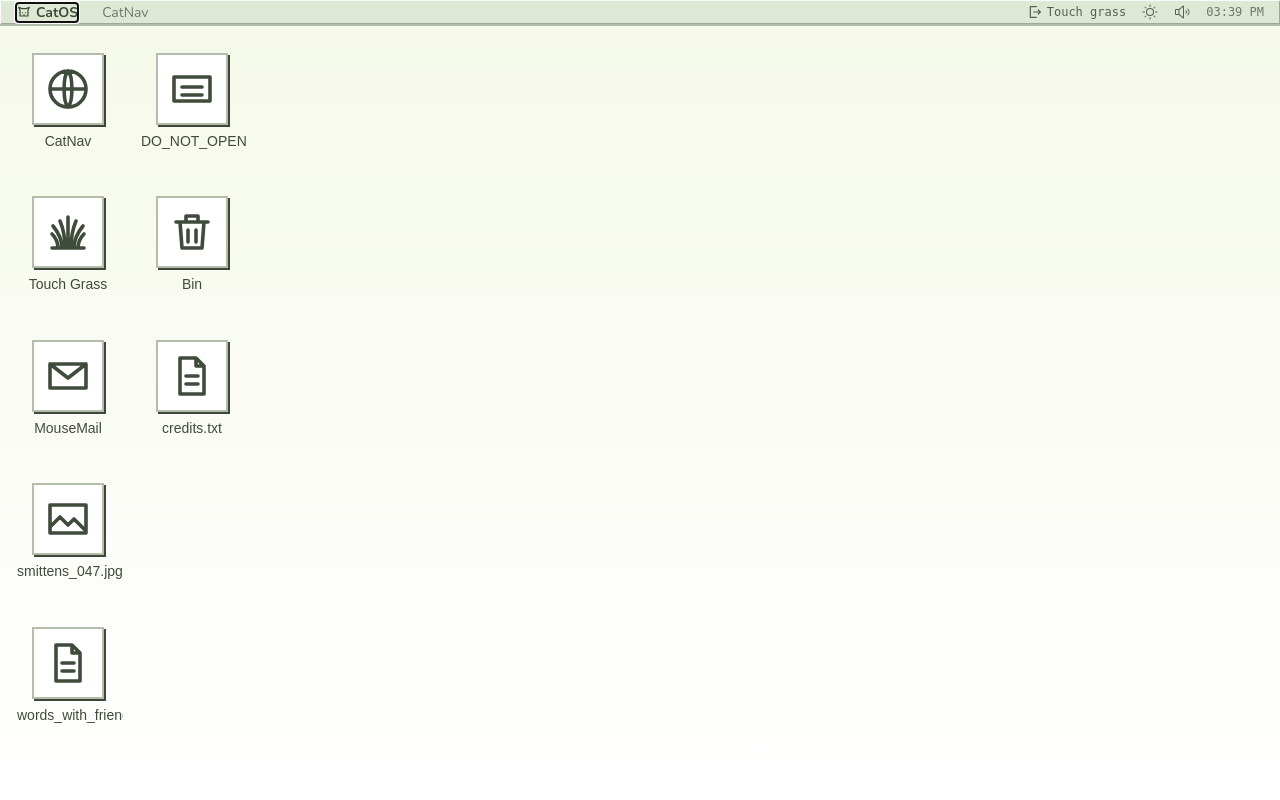
LaptopScreenOverlay (CatOS) › the tray volume › keeps the fader shut until the speaker is used
The image size is (1280, 800).
What coordinates should you click on to do the following:
click the button named "Volume"
I would click on:
 (1182, 12)
Its box is [1174,4,1190,20].
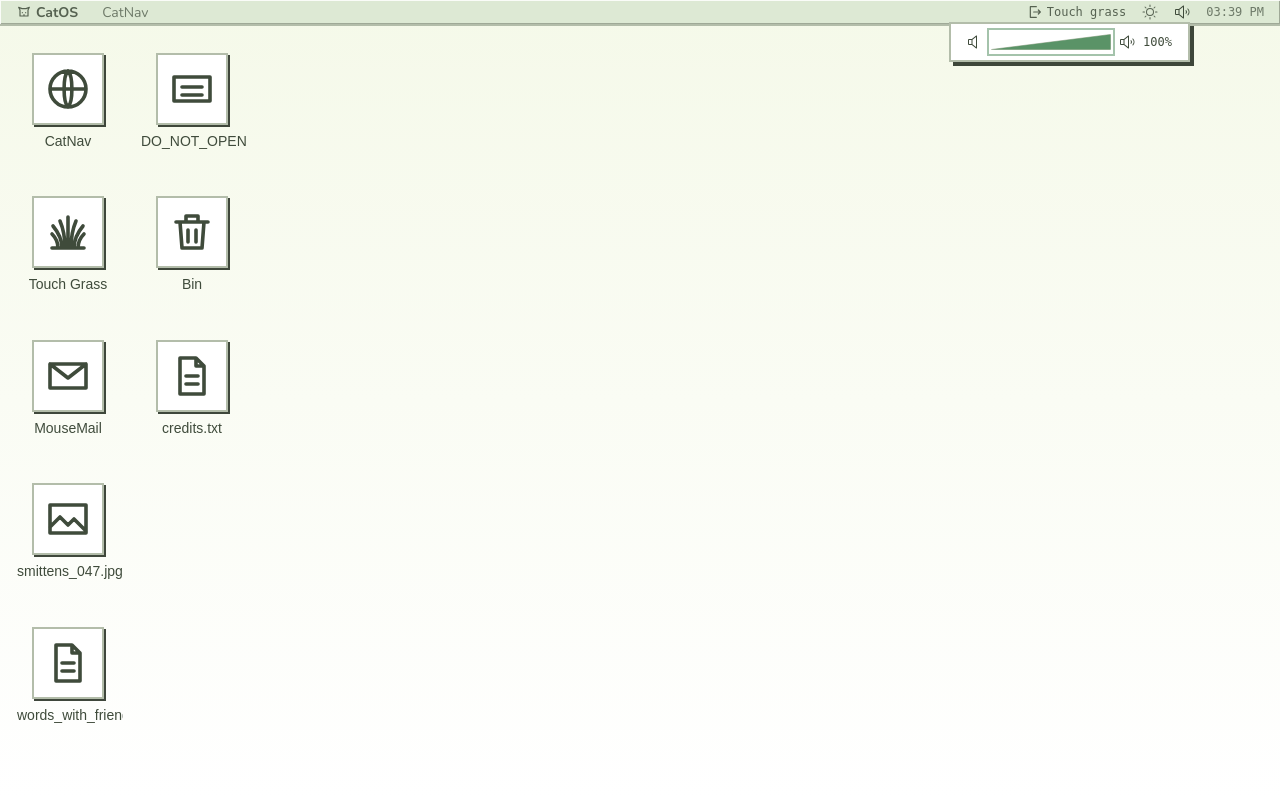
Expected: the slider named "Volume" is shown, [991,32,1111,52]
